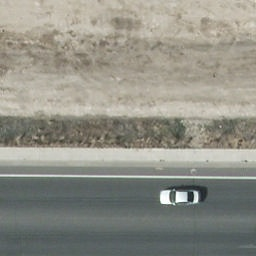car: (159, 189, 202, 205)
